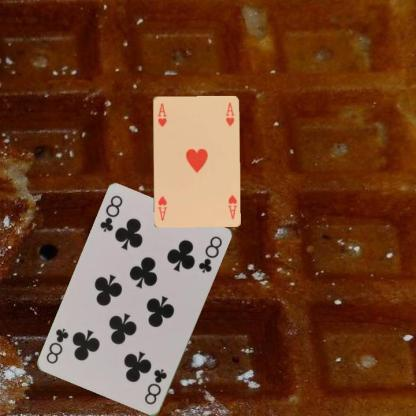8c: (97, 193, 124, 234), (142, 366, 168, 406)
Ah: (225, 193, 238, 220), (155, 101, 167, 128)
